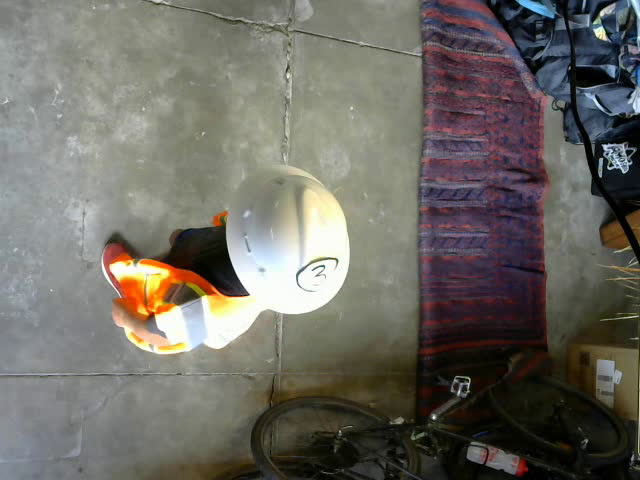three: (297, 258, 338, 290)
